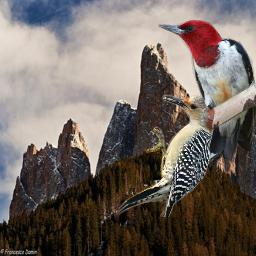Woodpecker: (158, 19, 256, 175), (114, 90, 228, 217)
